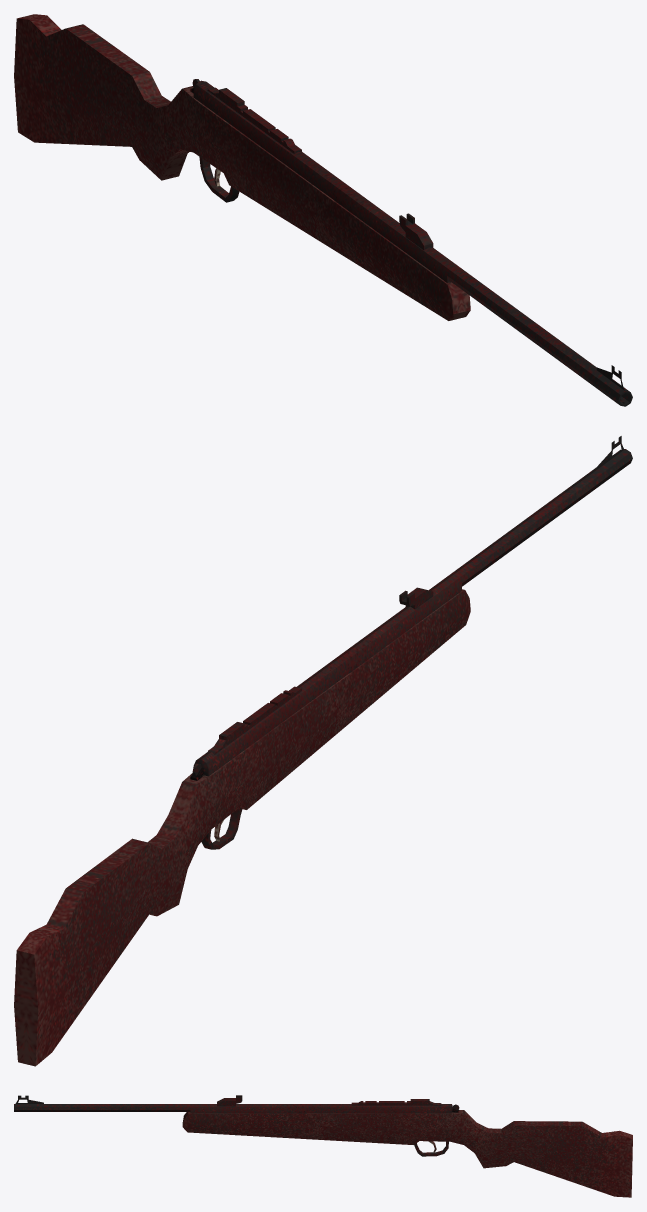
File: Rifle.fbx
The picture shows the model from 3 angles, top to bottom: view 1: azimuth 30°, elevation 25°; view 2: azimuth 150°, elevation 25°; view 3: azimuth 270°, elevation 25°; orthographic projection. The views are drawn at different scales.
Parts seen in each view (by area): view 1: Cube; view 2: Cube; view 3: Cube.
Boxes of the visible parts, x1,y1,x2,y2 form: Cube: [14, 14, 632, 406]; Cube: [14, 436, 632, 1066]; Cube: [14, 1095, 632, 1197].
Size of the model in its own units: 0.0329 by 0.2511 by 1.41.
